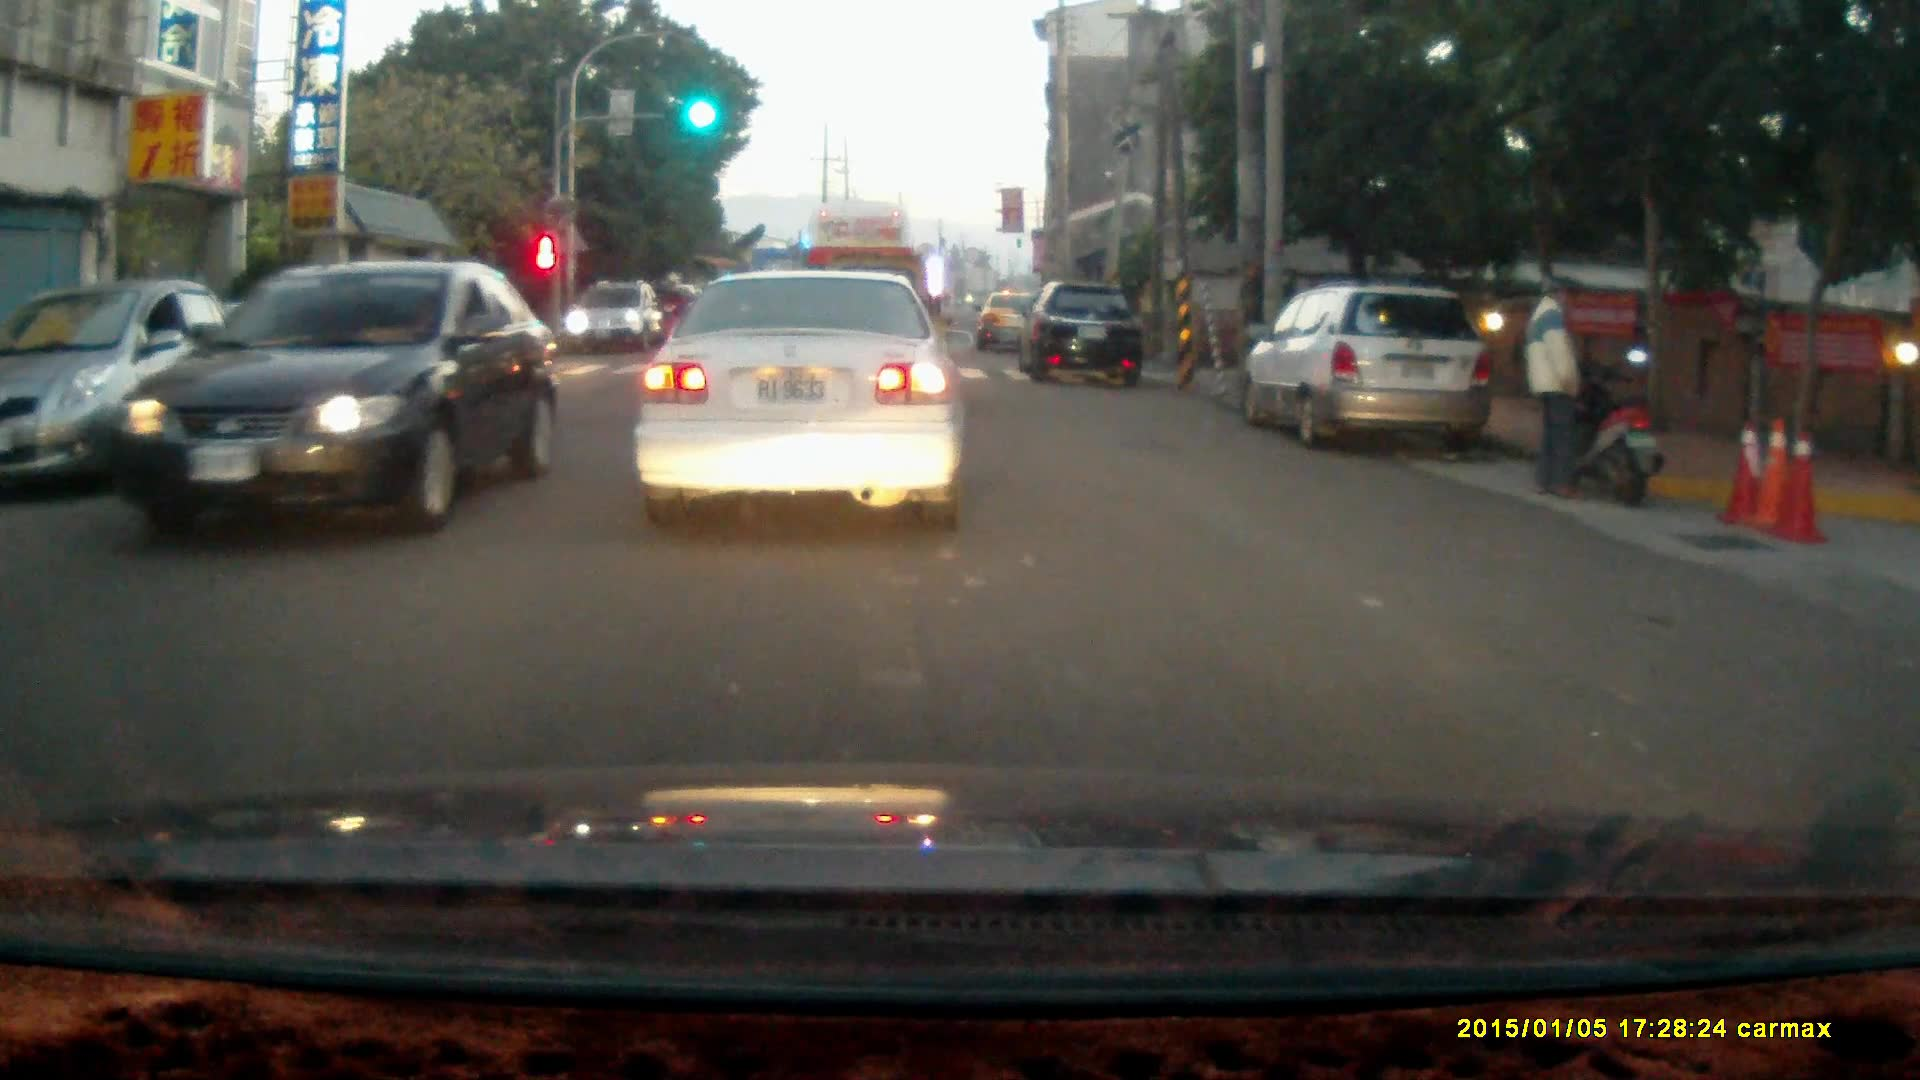pedestrian: (1521, 273, 1589, 504)
vehicle: (107, 262, 551, 546), (632, 273, 963, 533), (1, 279, 234, 500), (1254, 289, 1495, 461), (804, 204, 924, 375), (1022, 280, 1154, 387), (570, 281, 665, 354)
